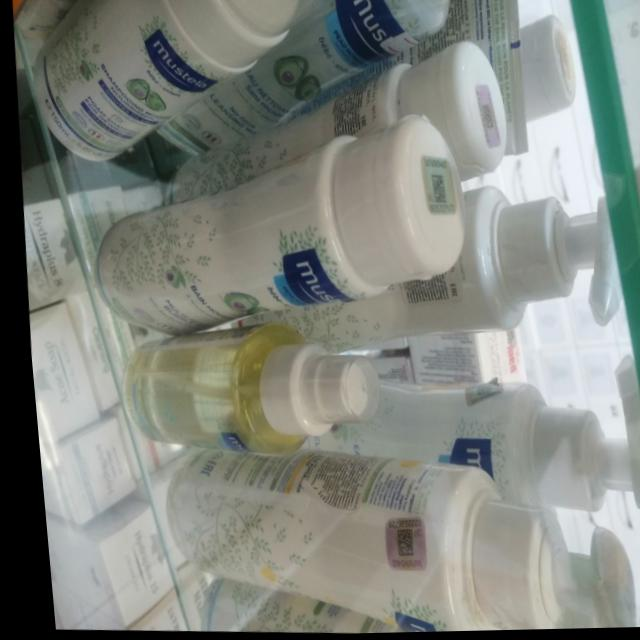datamatrix: (384, 530, 405, 561), (426, 176, 445, 205)
